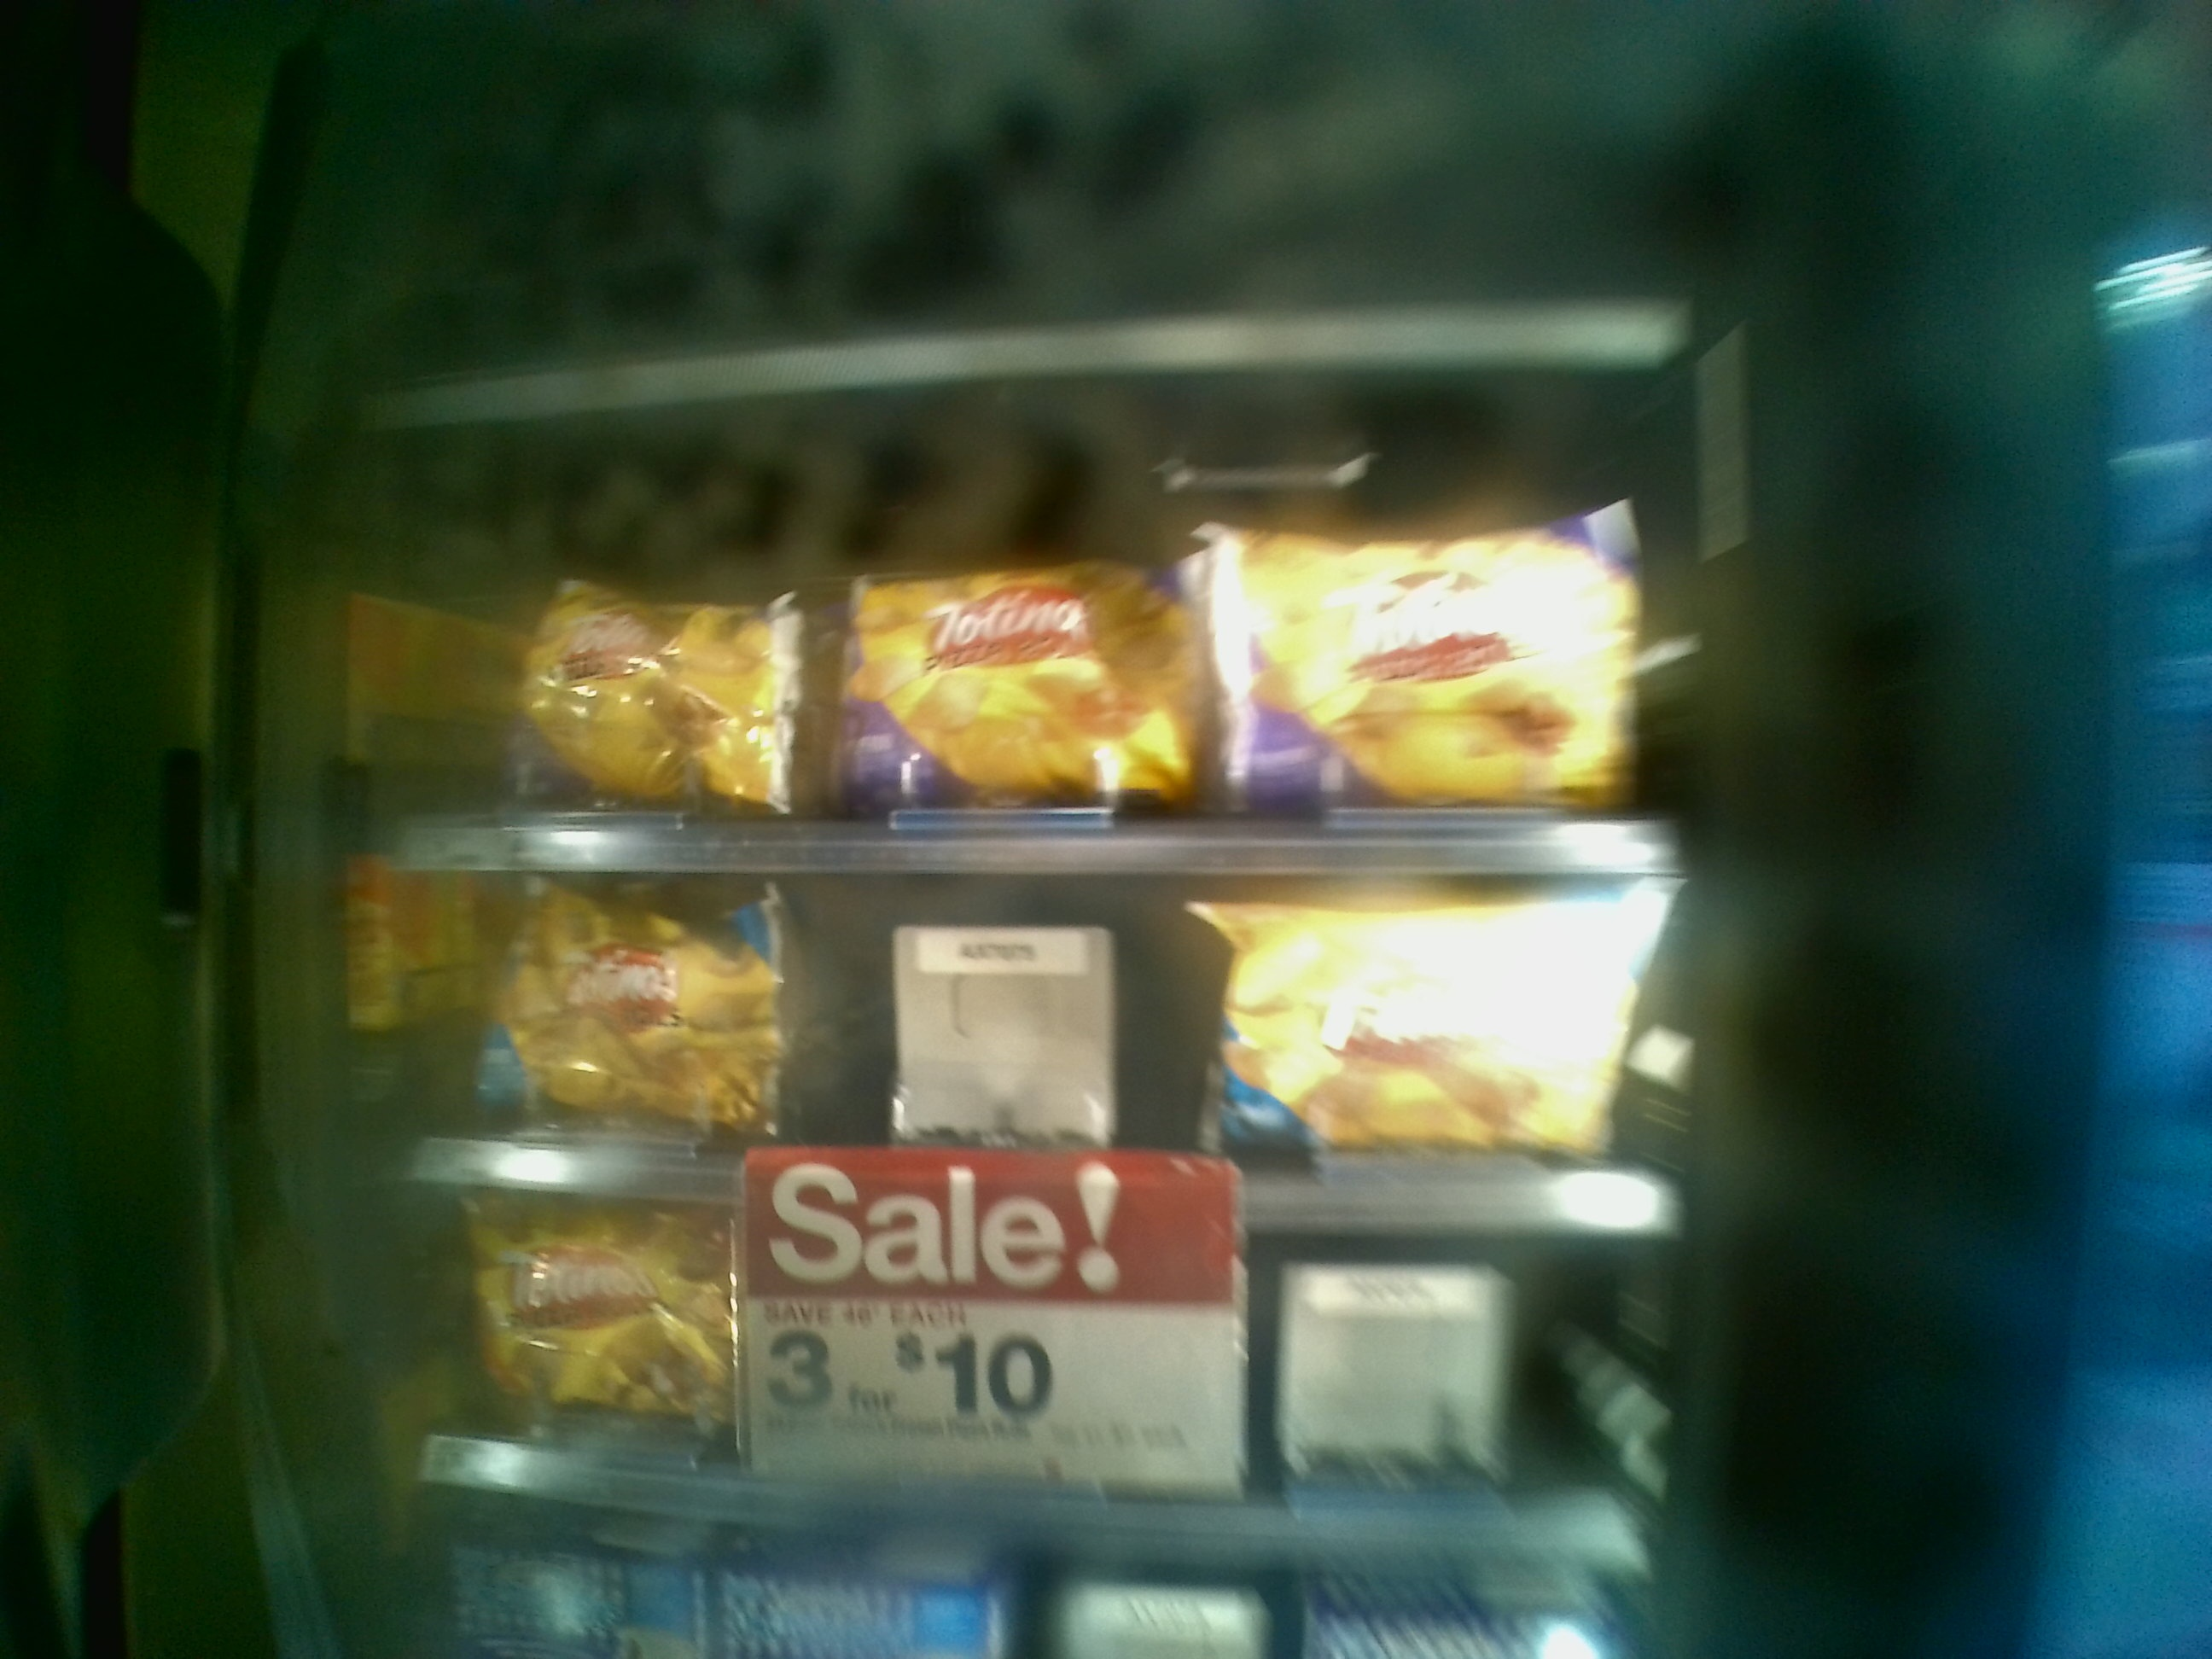shelf: (401, 1173, 1646, 1568), (406, 856, 1663, 1241)
